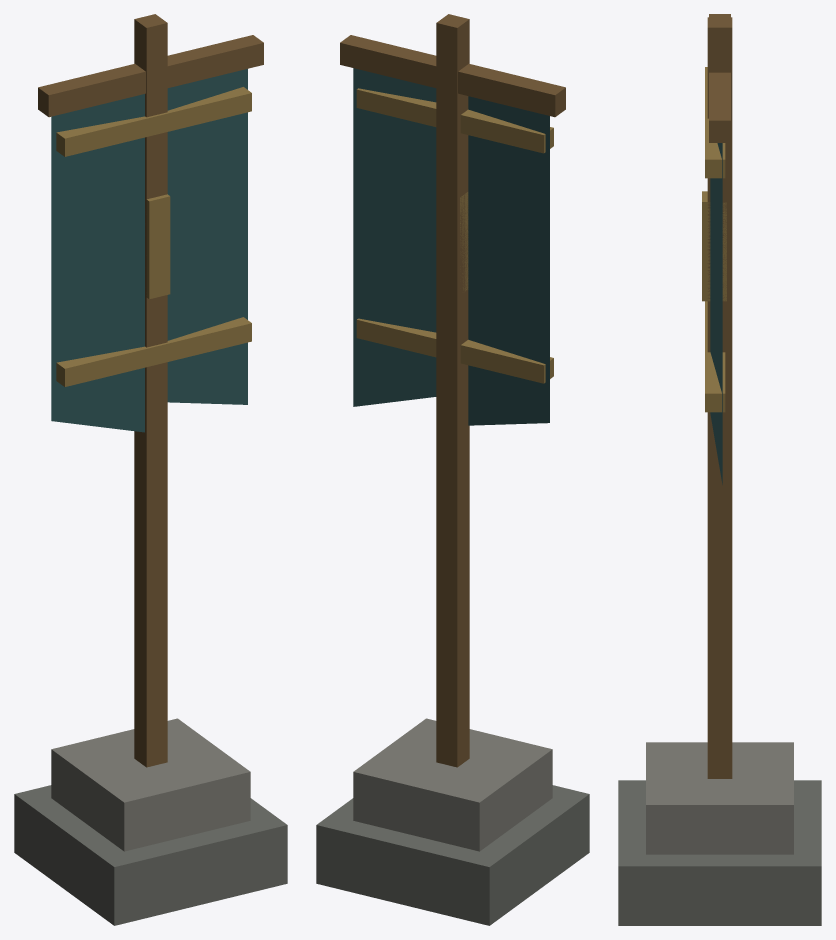
File: court_Banner_1x1.glb
3 views of the same model, side by side, from view 1: azimuth 30°, elevation 25°; view 2: azimuth 150°, elevation 25°; view 3: azimuth 270°, elevation 25° (orthographic).
Visible parts, largest first — view 1: court_Banner_1x1; view 2: court_Banner_1x1; view 3: court_Banner_1x1.
Boxes of the visible parts, x1,y1,x2,y2 form: court_Banner_1x1: (14, 14, 287, 925); court_Banner_1x1: (316, 14, 589, 925); court_Banner_1x1: (618, 14, 821, 925).
Size of the model in its own units: 0.92 by 3.46 by 0.74.
